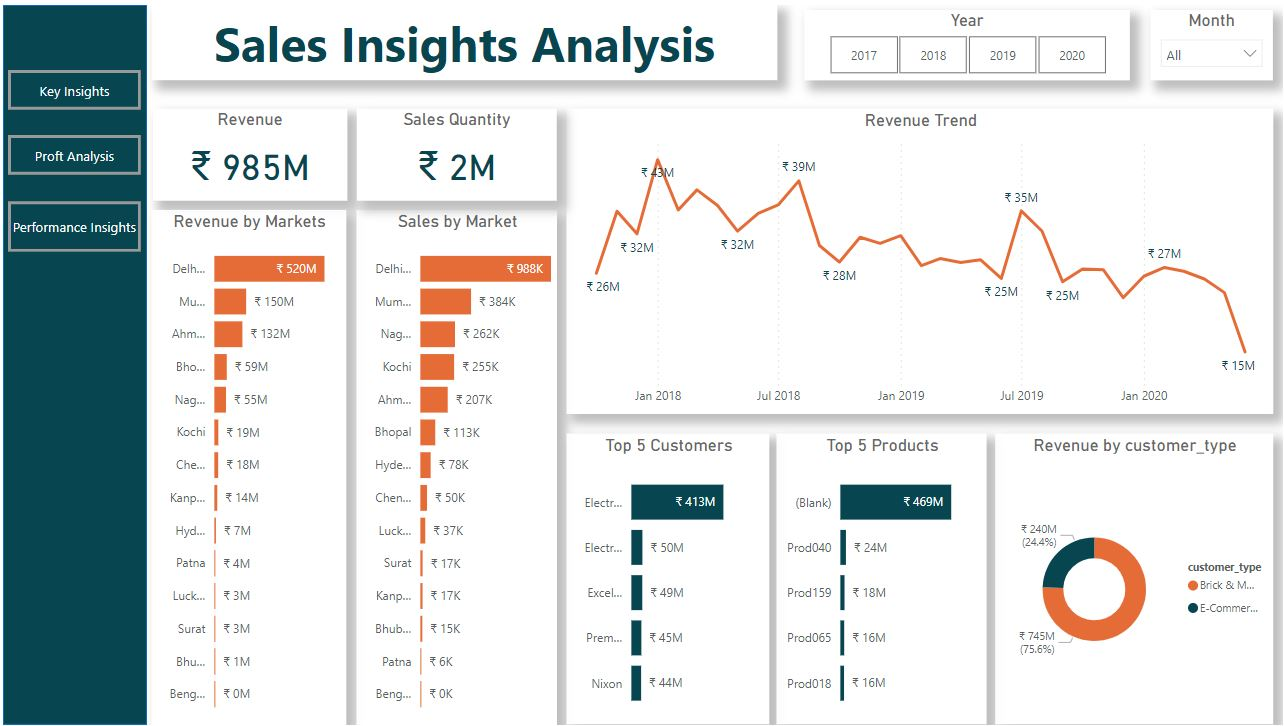

The dashboard page shown, as its layout file describes it:
{"tool":"powerbi","page":{"name":"Key Insights","canvas":[1280,720],"ordinal":0},"visuals":[{"type":"card","title":"Revenue","fields":{"Values":["sales transactions.Revenue"]},"box":[149.5,103.7,194.2,91.7],"z":0},{"type":"barChart","title":"Revenue by Markets","fields":{"Category":["sales markets.markets_name"],"Y":["sales transactions.Revenue"]},"box":[148.3,205,194.2,515],"z":1000},{"type":"barChart","title":"Sales by Market","fields":{"Y":["sales transactions.Sales Qty"],"Category":["sales markets.markets_name"]},"box":[353.4,205,200.2,515],"z":2000},{"type":"actionButton","box":[0,0,100.1,39.8],"z":3000},{"type":"barChart","title":"Top 5 Customers","fields":{"Y":["sales transactions.Revenue"],"Category":["sales customers.custmer_name"]},"box":[563.2,429.3,202.6,290.7],"z":4000},{"type":"lineChart","title":"Revenue Trend","fields":{"Y":["sales transactions.Revenue"],"Category":["sales date.cy_date.Variation.Date Hierarchy.Year","sales date.cy_date.Variation.Date Hierarchy.Quarter","sales date.cy_date.Variation.Date Hierarchy.Month","sales date.cy_date.Variation.Date Hierarchy.Day"]},"box":[563.2,103.7,706.7,305.1],"z":5000},{"type":"barChart","title":"Top 5 Products","fields":{"Y":["sales transactions.Revenue"],"Category":["sales products.product_code"]},"box":[774.3,429.3,209.8,290.7],"z":6000},{"type":"donutChart","fields":{"Category":["sales customers.customer_type"],"Y":["sales transactions.Revenue"]},"box":[992.6,429.3,277.4,290.7],"z":7000},{"type":"card","title":"Sales Quantity","fields":{"Values":["sales transactions.Sales Qty"]},"box":[353.4,103.7,200.2,91.7],"z":8000},{"type":"textbox","box":[148.9,0,625.6,75.6],"z":9000},{"type":"shape","box":[0,0,144,719.8],"z":10000},{"type":"actionButton","box":[5.5,64.4,133,39.8],"z":11000},{"type":"actionButton","box":[5.5,130.2,133,39.8],"z":12000},{"type":"actionButton","box":[5.5,196.1,133,50.7],"z":13000},{"type":"slicer","title":"Year","fields":{"Values":["sales date.year"]},"box":[801.1,5.6,325.6,70],"z":14000},{"type":"slicer","title":"Month","fields":{"Values":["sales date.Month"]},"box":[1147.8,5.6,122.2,70],"z":15000}]}

Visuals, with their boxes in screenshot pixels (x1, y1, x2, y2), scaled from the page's 1280x720 canvas onto the 1284x726 screenshot:
"Revenue" card: detection(150, 105, 345, 197)
"Revenue by Markets" barChart: detection(149, 207, 344, 725)
"Sales by Market" barChart: detection(355, 207, 555, 725)
actionButton: detection(0, 0, 100, 40)
"Top 5 Customers" barChart: detection(565, 433, 768, 725)
"Revenue Trend" lineChart: detection(565, 105, 1274, 412)
"Top 5 Products" barChart: detection(777, 433, 987, 725)
donutChart - sales customers.customer_type x sales transactions.Revenue: detection(996, 433, 1274, 725)
"Sales Quantity" card: detection(355, 105, 555, 197)
textbox: detection(149, 0, 777, 76)
shape: detection(0, 0, 144, 725)
actionButton: detection(6, 65, 139, 105)
actionButton: detection(6, 131, 139, 171)
actionButton: detection(6, 198, 139, 249)
"Year" slicer: detection(804, 6, 1130, 76)
"Month" slicer: detection(1151, 6, 1274, 76)
